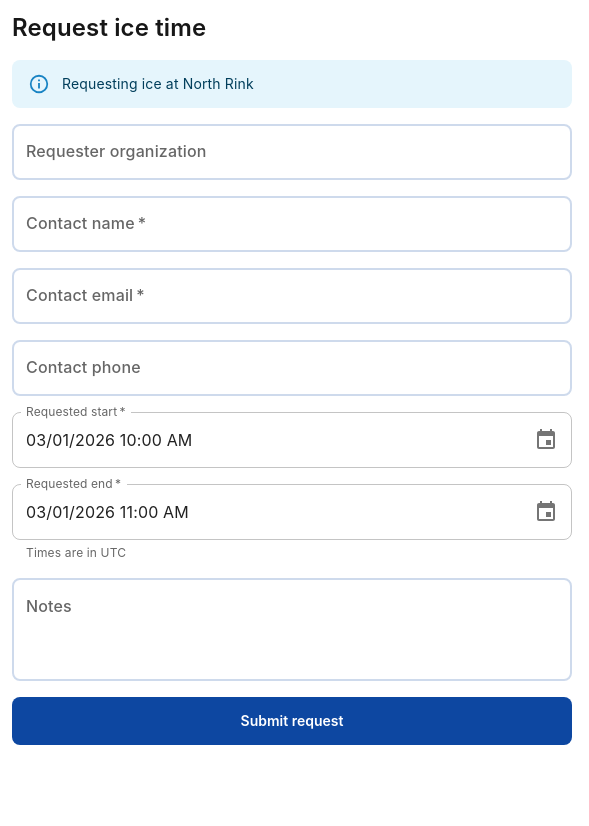
Scenario: ice time request components › submits ice time request details through the Server Action
In the field labelled "Requester organization": (292,152) [12, 124, 572, 180], type "Sharks Hockey"
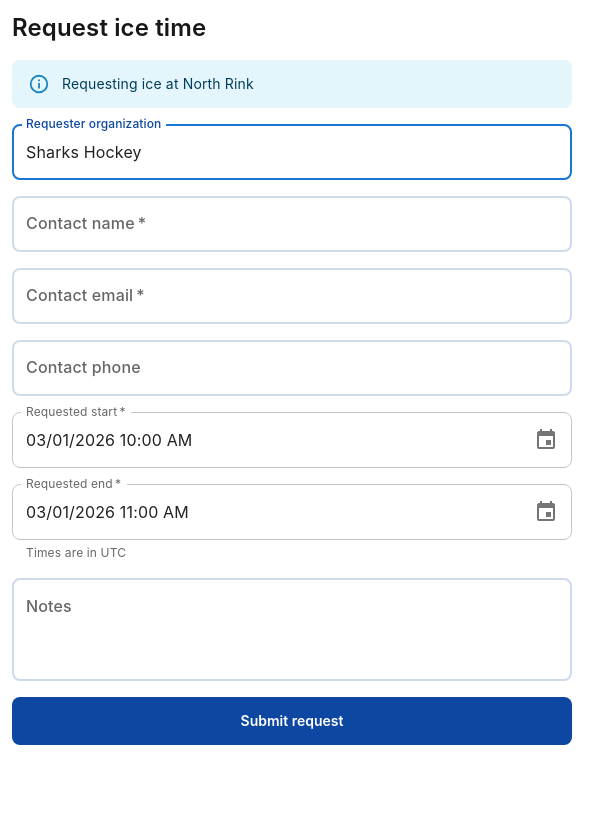
In the field labelled "Contact name *": (292,224) [12, 196, 572, 252], type "Coach One"
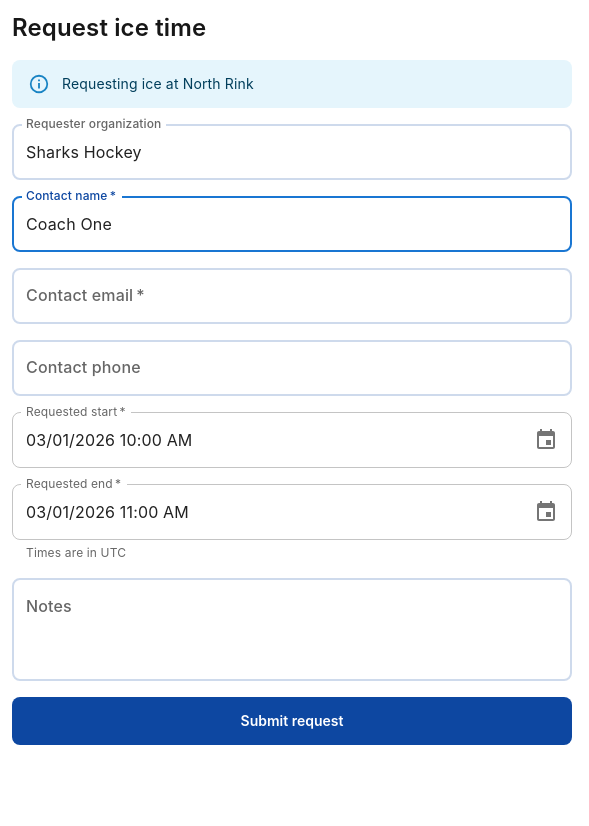
In the field labelled "Contact email *": (292,296) [12, 268, 572, 324], type "coach@example.com"
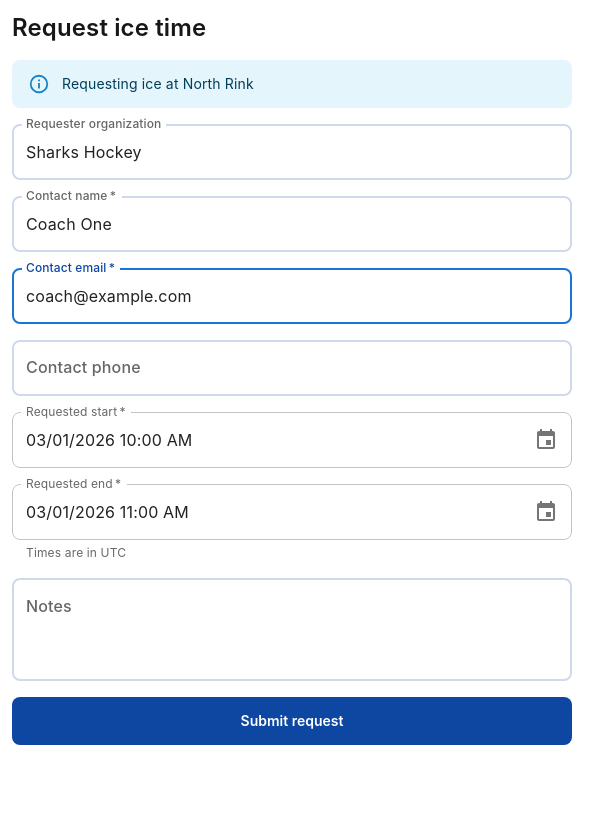
In the text box labelled "Notes": (292,630) [26, 595, 558, 664], type "Need a goalie net."
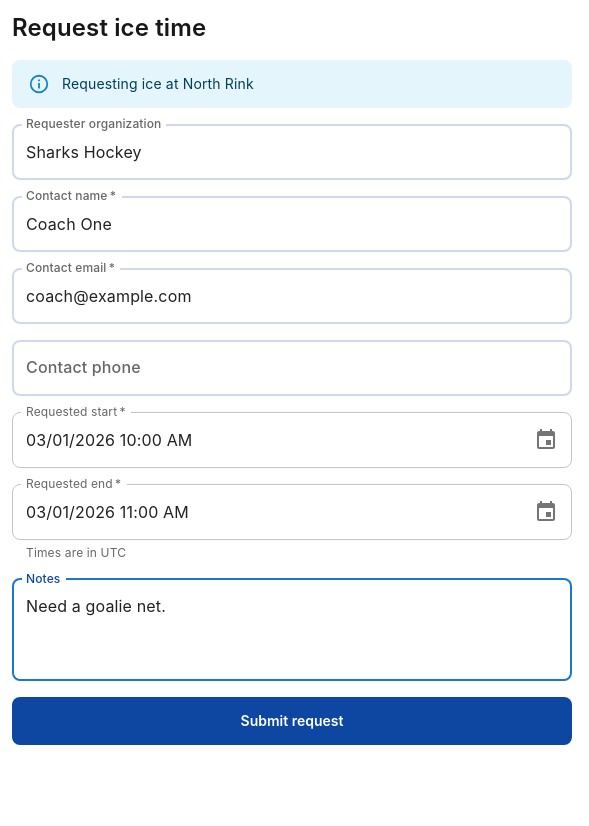
Click the button "Submit request": (292,721) [12, 697, 572, 745]
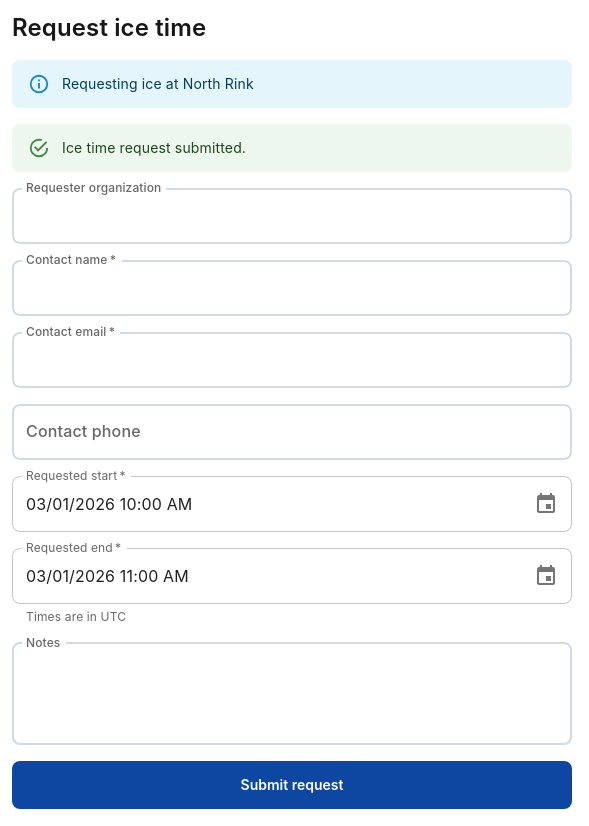
Now the text "Ice time request submitted." is shown, box [62, 139, 246, 156]
